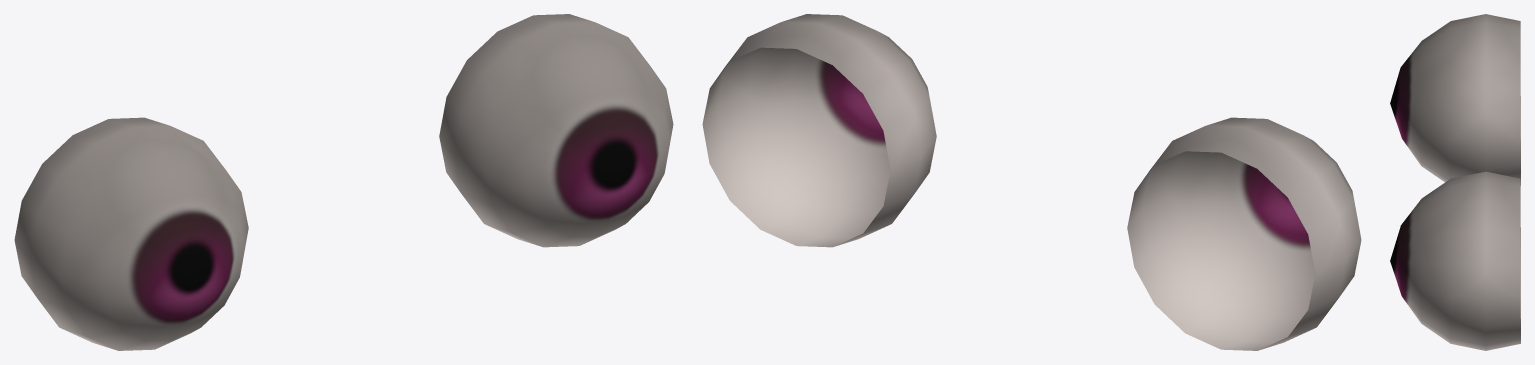
Rendered from eyes_3.glb.
3 views of the same model, side by side, from view 1: azimuth 30°, elevation 25°; view 2: azimuth 150°, elevation 25°; view 3: azimuth 270°, elevation 25° (orthographic). The views are drawn at different scales.
Parts seen in each view (by area): view 1: eyes_low; view 2: eyes_low; view 3: eyes_low.
Part boxes in pixels (bbox=[...]): eyes_low: bbox=[14, 14, 673, 350]; eyes_low: bbox=[702, 14, 1361, 350]; eyes_low: bbox=[1390, 14, 1520, 350].
Bounding box in the file's own units: 0.3282 × 0.1068 × 0.0778.
1 material, 1 textured.
